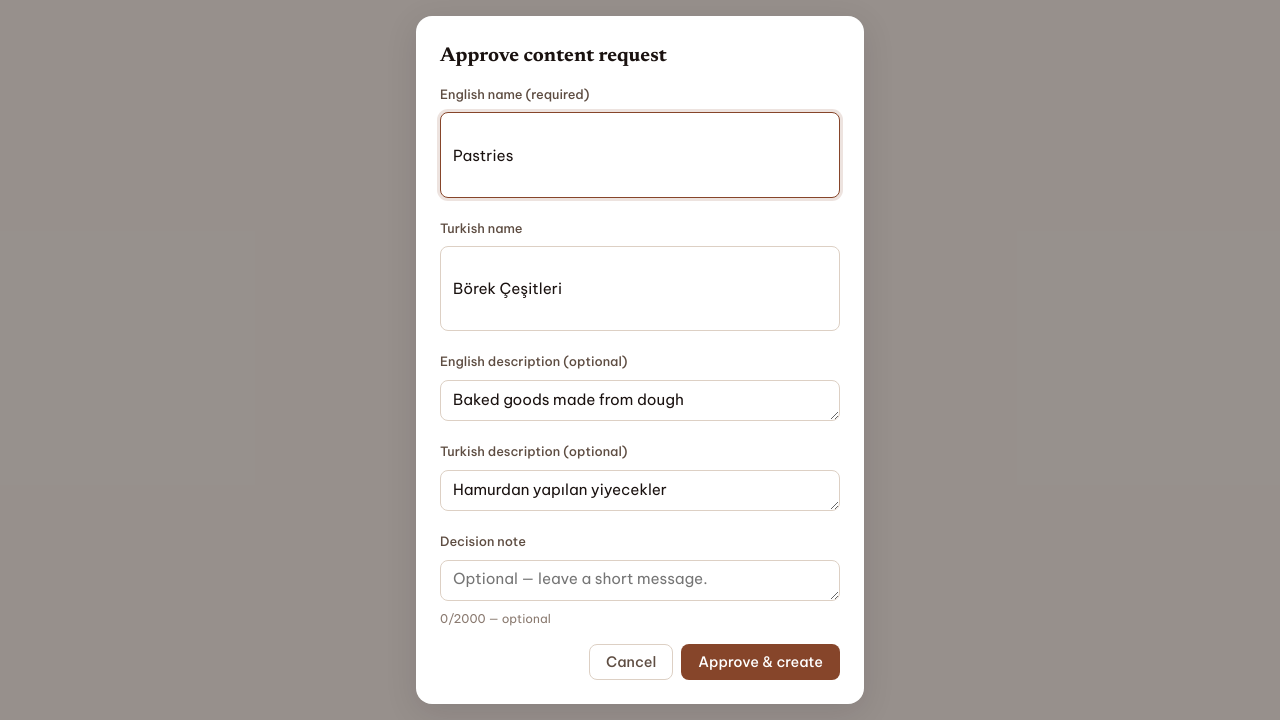
ApproveContentRequestDialog — genre › disables the Approve button when nameEn is cleared
Clear the field showing "Pastries" at coordinates (640, 155), box x1=440 y1=112 x2=840 y2=198
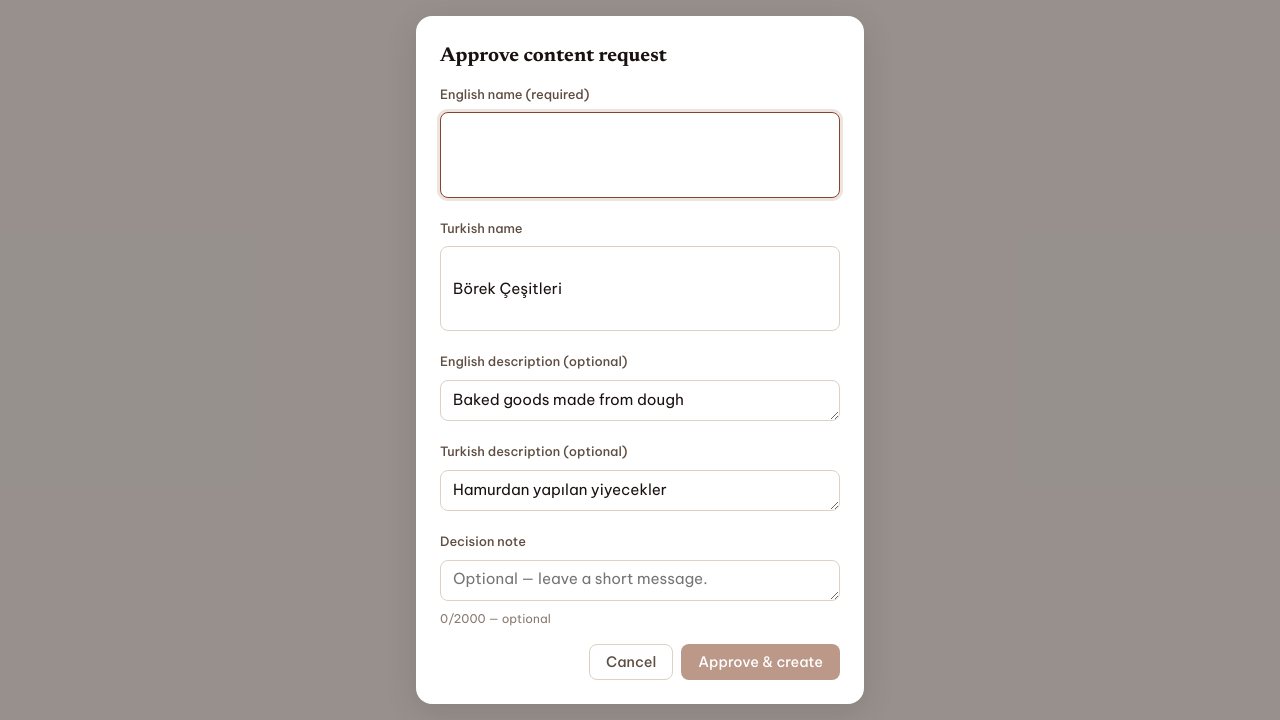
Expected: the button "Approve & create" is disabled, x1=681 y1=644 x2=840 y2=680
